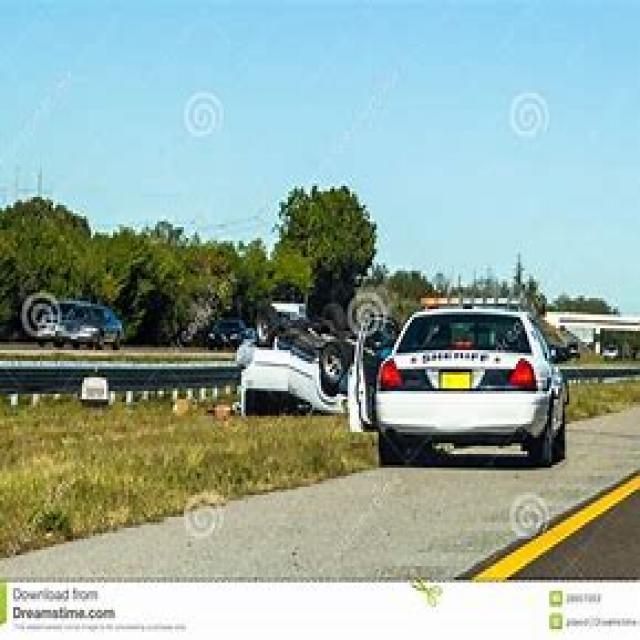Accident: (173, 196, 640, 556)
